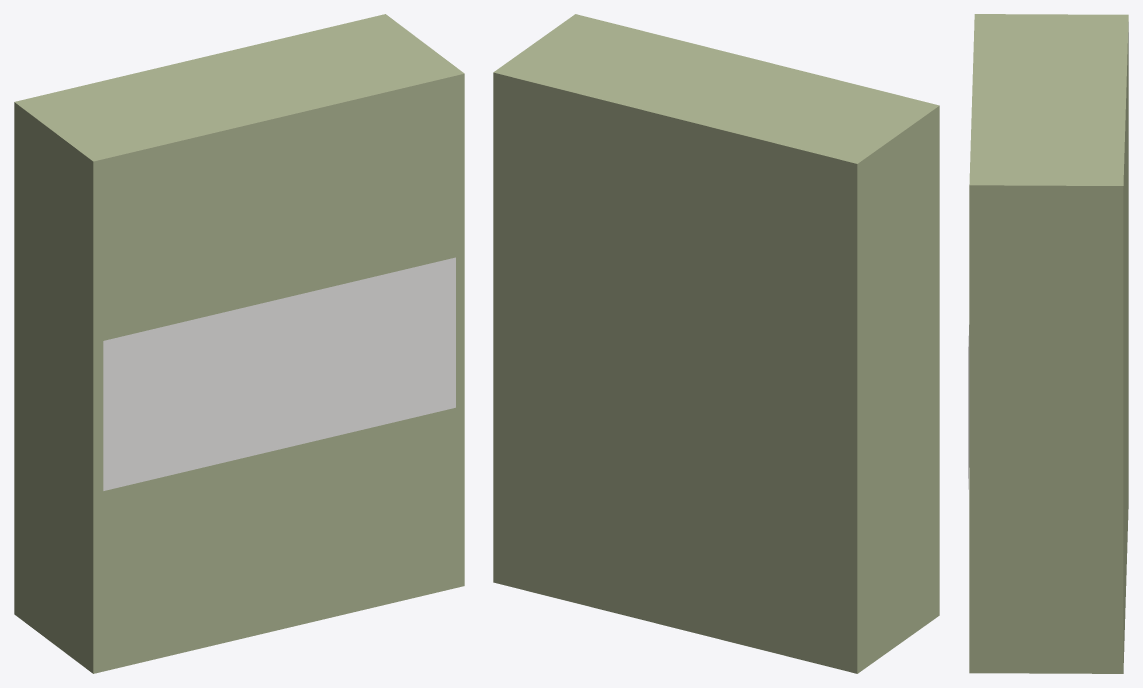
File: Powder_2.fbx
3 renders of one model, left to right at view 1: azimuth 30°, elevation 25°; view 2: azimuth 150°, elevation 25°; view 3: azimuth 270°, elevation 25°, orthographic. The views are drawn at different scales.
Parts seen in each view (by area): view 1: Powder_2; view 2: Powder_2; view 3: Powder_2.
Part boxes in pixels (box(x1,y1,x2,y2)): Powder_2: box(14, 14, 464, 673); Powder_2: box(493, 14, 939, 673); Powder_2: box(968, 14, 1128, 673).
Size of the model in its own units: 25.55 by 10.06 by 33.76.
